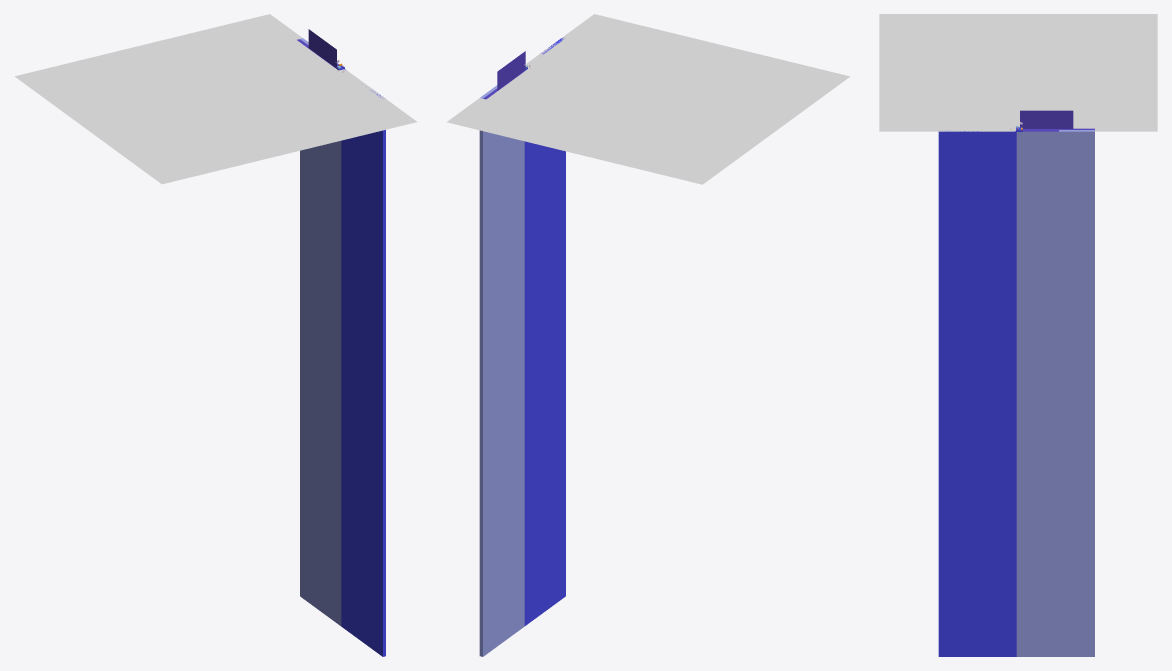
File: portfolio1.glb
3 renders of one model, left to right at view 1: azimuth 30°, elevation 25°; view 2: azimuth 150°, elevation 25°; view 3: azimuth 270°, elevation 25°, orthographic. The views are drawn at different scales.
Visible parts, largest first — view 1: Plane, Cube.003, Cube.007; view 2: Plane, Cube.007, Cube.003; view 3: Cube.007, Cube.003, Plane, Plane.001.
Part boxes in pixels (x1,y1,x2,y2): Plane: [15, 14, 416, 184]; Cube.003: [341, 90, 385, 656]; Cube.007: [300, 38, 341, 626]; Plane: [447, 14, 850, 184]; Cube.007: [479, 85, 524, 656]; Cube.003: [524, 37, 565, 625]; Cube.007: [1016, 130, 1094, 656]; Cube.003: [938, 130, 1016, 656]; Plane: [879, 14, 1157, 131]; Plane.001: [1020, 110, 1073, 128].
Bounding box in the file's own units: 155 × 334 × 155.
